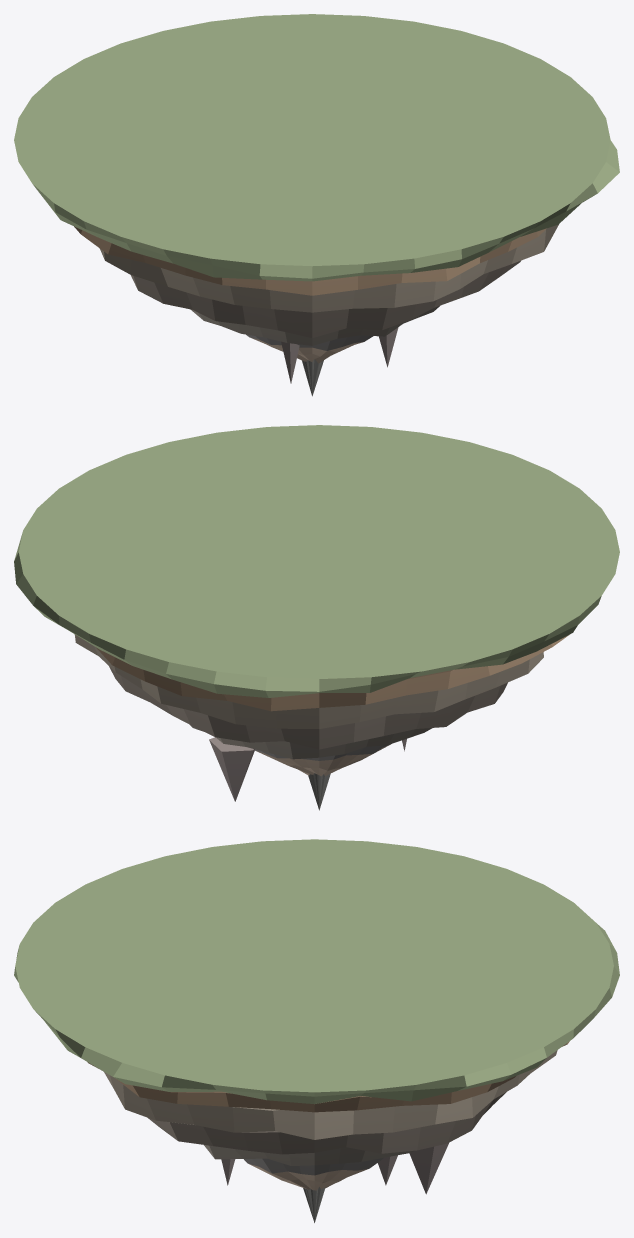
File: iv_under_a.glb
3 renders of one model, top to bottom at view 1: azimuth 30°, elevation 25°; view 2: azimuth 150°, elevation 25°; view 3: azimuth 270°, elevation 25°, orthographic.
Visible parts, largest first — view 1: iv_under_a; view 2: iv_under_a; view 3: iv_under_a.
Part boxes in pixels (bbox=[...]): iv_under_a: bbox=[14, 14, 619, 396]; iv_under_a: bbox=[14, 425, 619, 810]; iv_under_a: bbox=[14, 839, 619, 1222].
Bounding box in the file's own units: 2 × 0.95 × 2.02.
